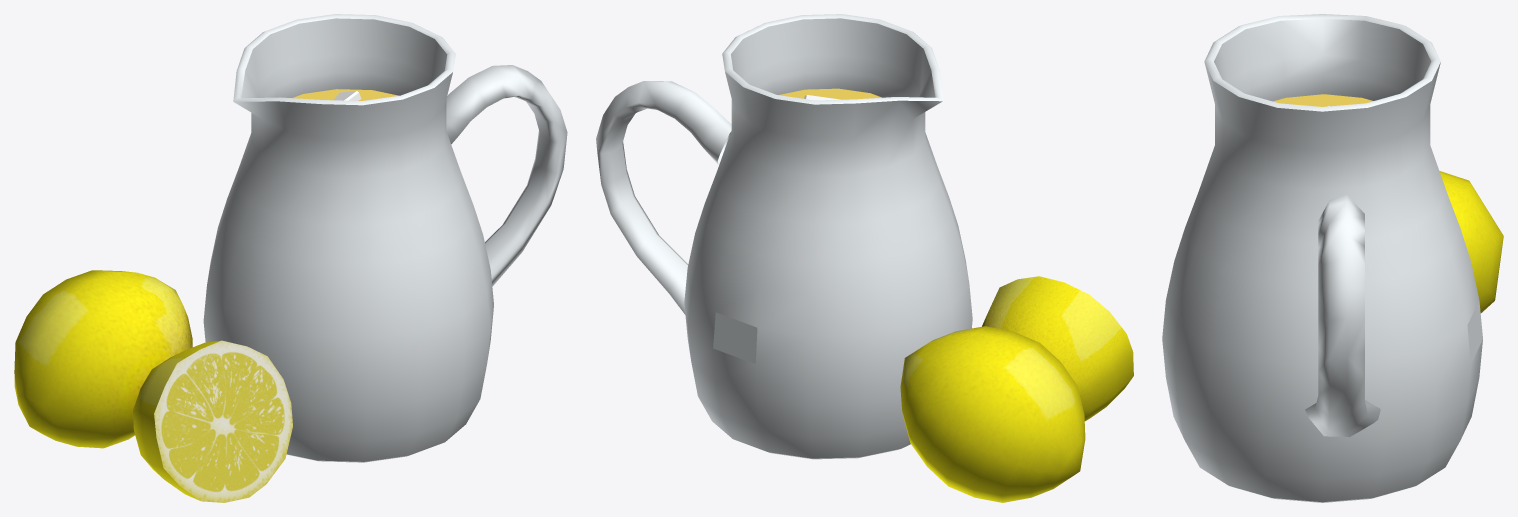
The model's file is Lemonade.obj.
3 renders of one model, left to right at view 1: azimuth 30°, elevation 25°; view 2: azimuth 150°, elevation 25°; view 3: azimuth 270°, elevation 25°, orthographic. The views are drawn at different scales.
Visible parts, largest first — view 1: lem_Untitled.003; view 2: lem_Untitled.003; view 3: lem_Untitled.003.
Boxes of the visible parts, x1,y1,x2,y2 form: lem_Untitled.003: (14, 14, 567, 502); lem_Untitled.003: (596, 14, 1133, 502); lem_Untitled.003: (1162, 14, 1503, 502).
Bounding box in the file's own units: 0.9568 × 0.6401 × 0.5061.
2 materials, 2 textured.
